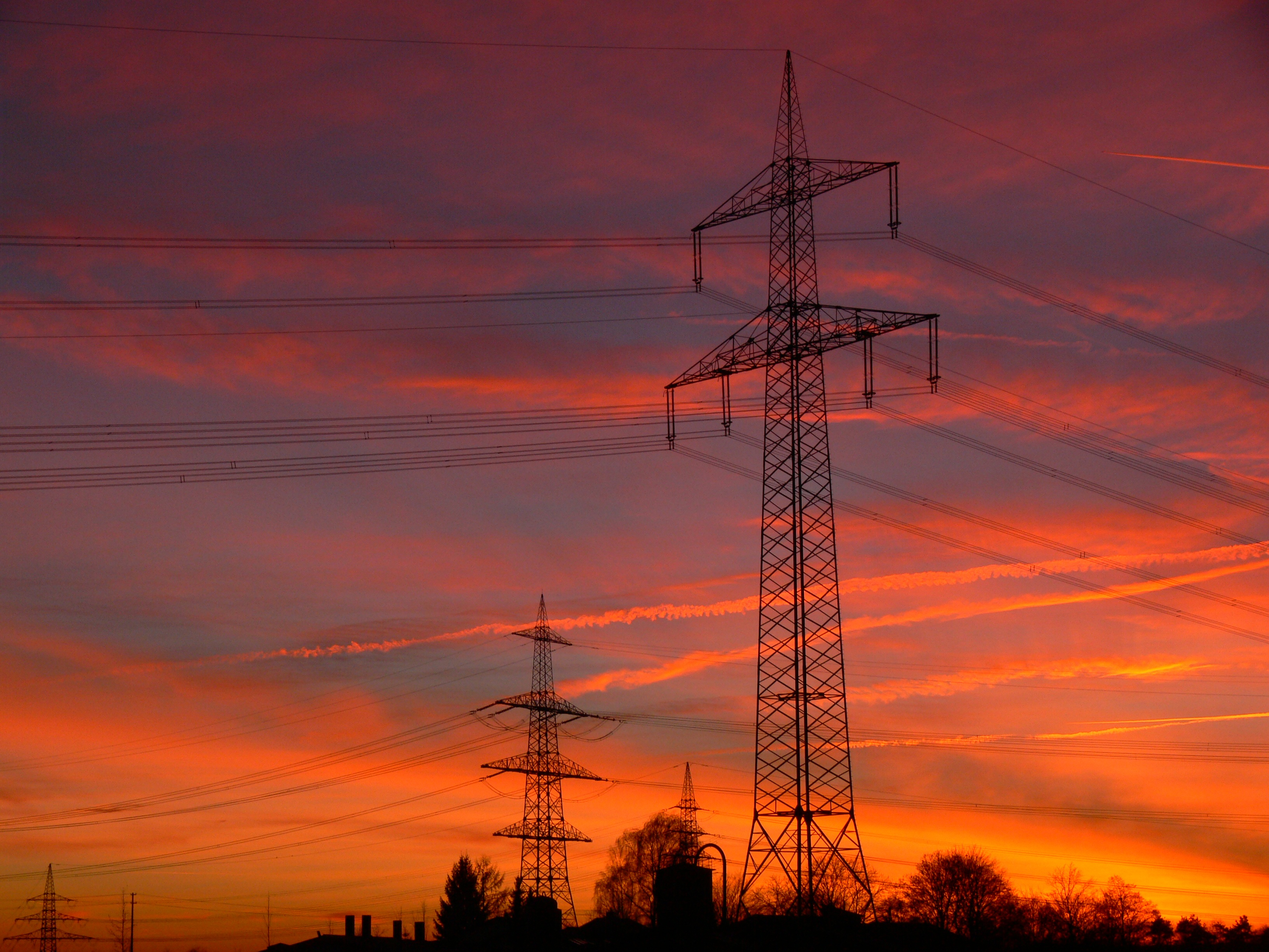insulator: (922, 308, 943, 392), (713, 372, 738, 432), (657, 387, 681, 447), (687, 225, 708, 293), (858, 329, 877, 403), (886, 162, 903, 233)
